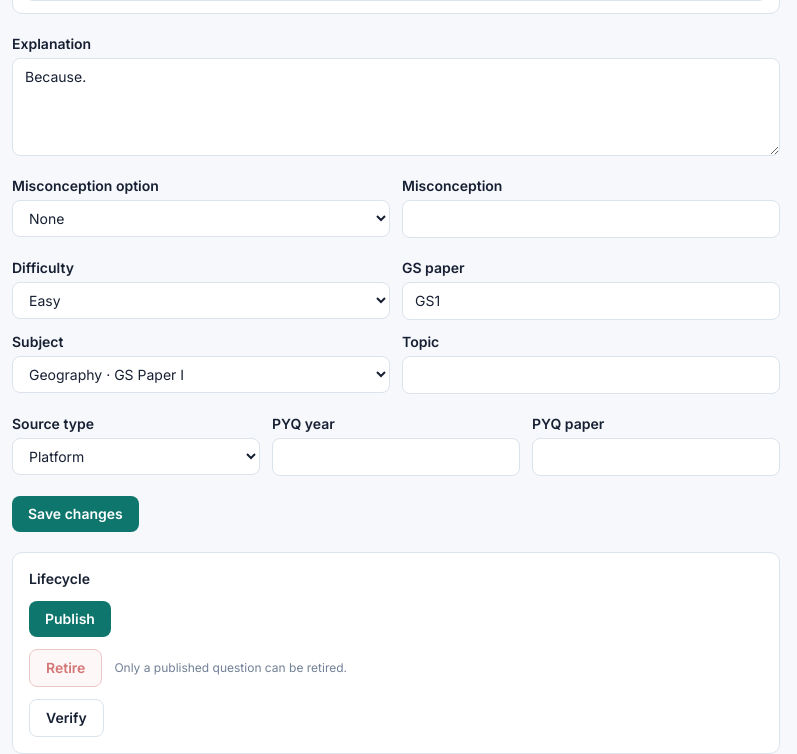
Test case: QuestionForm actions › publishes a complete question
(page scrolled)
Click the button "Publish".
click(70, 619)  # box x1=29 y1=601 x2=111 y2=637
(page scrolled)
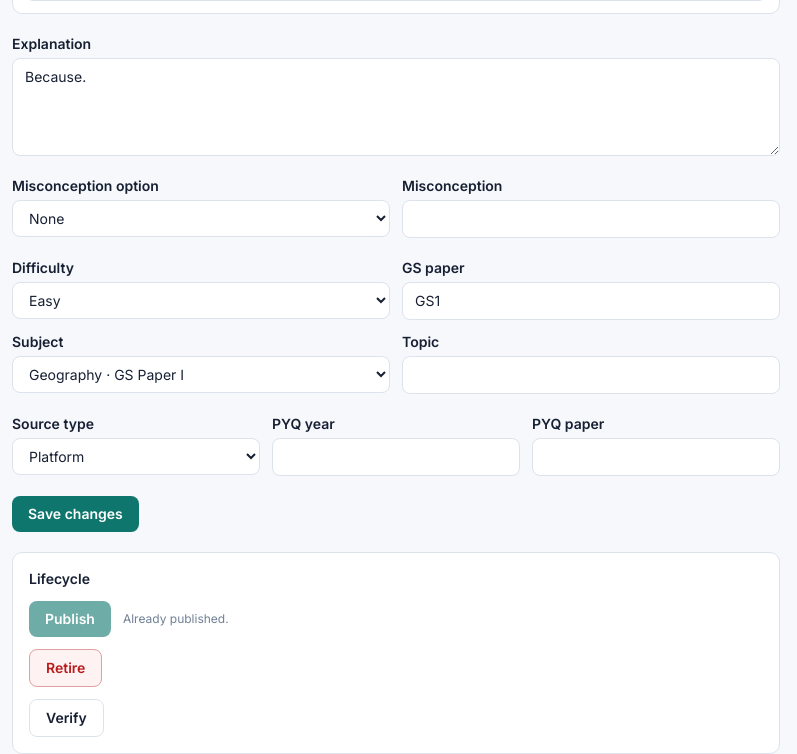
Result: the button "Publish" is disabled at x1=29 y1=601 x2=111 y2=637
